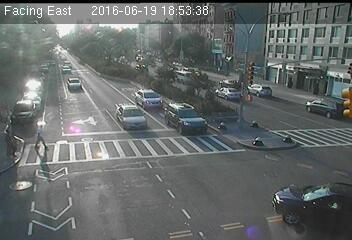neg: (208, 90, 226, 114), (284, 207, 299, 227), (245, 62, 259, 80), (236, 105, 250, 122), (285, 73, 298, 90), (253, 134, 264, 150)
pos: (29, 121, 50, 149), (3, 132, 23, 158)
